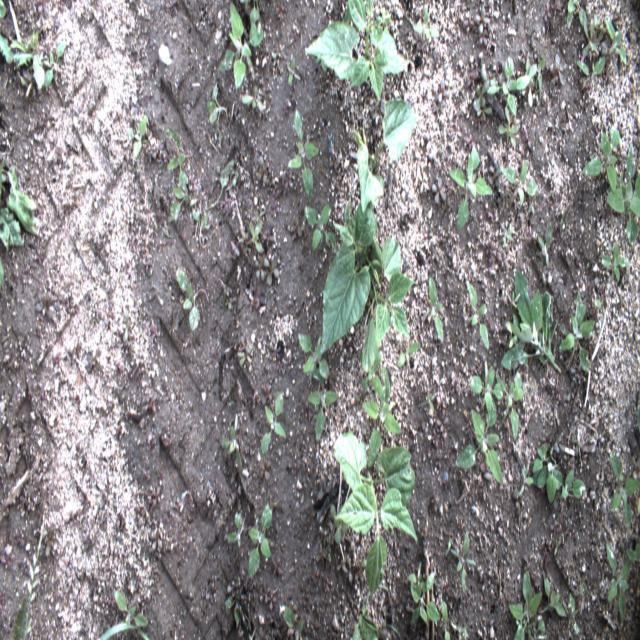crop: (322, 202, 415, 369), (332, 432, 418, 599), (301, 0, 398, 102), (354, 102, 417, 206), (502, 268, 558, 374), (446, 144, 493, 231), (455, 403, 503, 488), (219, 3, 265, 90), (360, 367, 398, 466), (557, 290, 596, 377), (283, 109, 319, 202), (606, 150, 640, 244), (604, 541, 640, 622), (507, 568, 546, 640), (582, 124, 620, 191), (609, 450, 640, 530), (488, 56, 518, 124), (247, 502, 273, 579), (466, 360, 502, 412), (257, 394, 287, 455), (527, 440, 555, 505), (407, 572, 440, 626), (501, 160, 538, 208), (498, 372, 524, 440), (307, 388, 338, 443), (544, 573, 580, 619), (518, 57, 546, 114), (178, 267, 200, 336), (468, 281, 489, 350), (298, 334, 330, 377), (307, 204, 336, 250), (456, 531, 476, 595), (600, 241, 630, 283), (167, 170, 191, 222), (352, 600, 379, 640), (551, 470, 585, 500), (605, 18, 627, 64), (429, 275, 443, 342), (166, 125, 186, 170), (129, 113, 147, 161), (282, 604, 304, 640), (576, 56, 606, 78), (226, 511, 242, 547), (567, 0, 586, 30), (442, 602, 449, 638)
weed: (1, 160, 40, 250), (0, 29, 44, 97), (24, 513, 45, 637), (114, 592, 150, 624), (227, 586, 251, 631), (205, 82, 228, 128), (44, 43, 66, 86), (222, 423, 242, 470), (536, 222, 553, 272), (396, 340, 421, 370), (98, 623, 146, 638), (412, 9, 436, 38), (582, 17, 598, 56), (330, 505, 344, 543), (242, 85, 264, 109), (472, 78, 488, 110), (264, 255, 280, 285), (248, 219, 262, 253), (520, 461, 533, 494), (191, 210, 210, 230), (287, 57, 300, 86), (499, 124, 517, 144), (316, 543, 332, 565), (432, 183, 446, 208), (252, 256, 265, 281), (437, 76, 450, 101), (474, 5, 493, 22), (238, 347, 255, 365), (290, 216, 304, 236), (571, 433, 582, 458), (502, 224, 513, 249), (433, 412, 448, 430), (121, 314, 130, 342), (554, 531, 564, 556), (280, 172, 292, 192), (417, 172, 427, 195), (466, 70, 478, 86), (495, 189, 507, 203), (491, 170, 500, 188), (479, 24, 487, 44), (477, 107, 491, 118), (0, 0, 7, 21), (445, 539, 454, 554), (578, 582, 585, 598), (428, 394, 433, 411), (505, 198, 512, 209), (575, 623, 580, 636), (570, 381, 574, 391)
